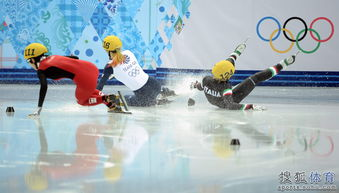fall: (20, 35, 129, 118)
